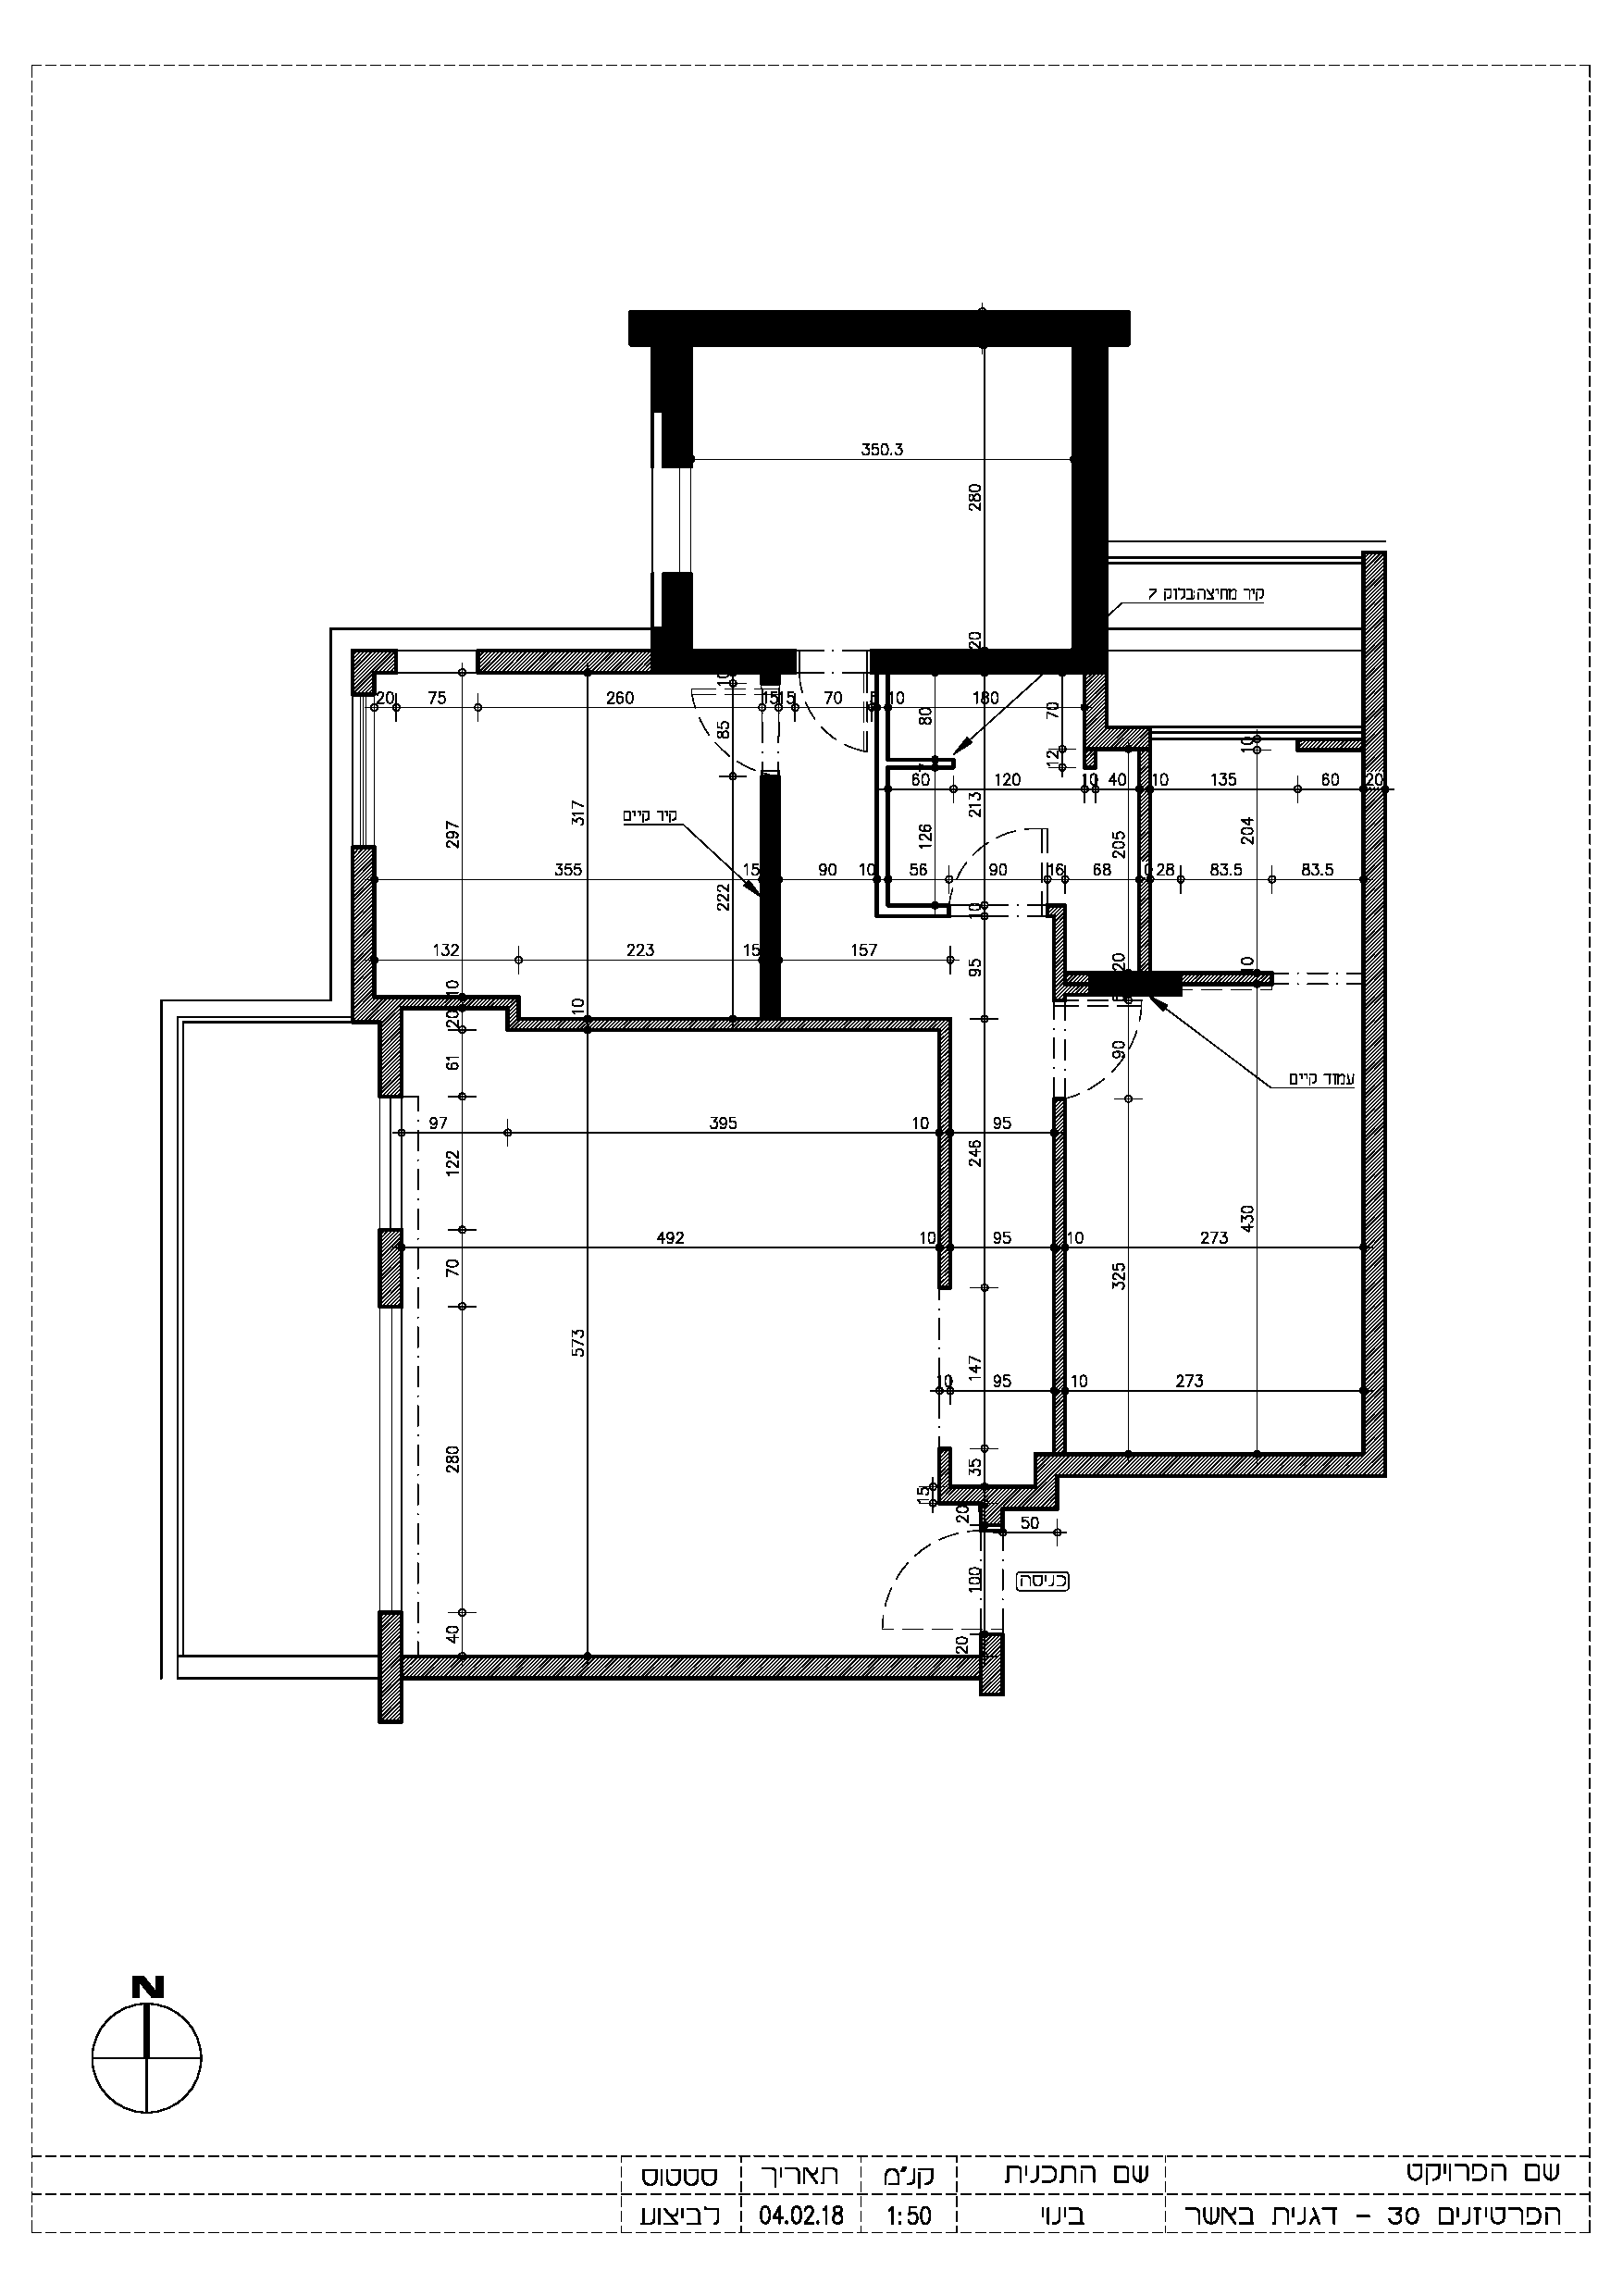door: (854, 1530, 980, 1639)
wall: (1361, 553, 1386, 1453), (406, 1653, 980, 1678), (1042, 1453, 1384, 1476), (509, 1014, 949, 1031), (1050, 1096, 1068, 1453), (346, 843, 376, 1024), (480, 646, 652, 675), (378, 1613, 404, 1720), (376, 1228, 404, 1310), (1086, 668, 1112, 748), (945, 1490, 1054, 1507), (941, 1038, 949, 1288), (987, 1637, 1003, 1695)
window: (1152, 726, 1361, 740), (355, 699, 371, 834)
